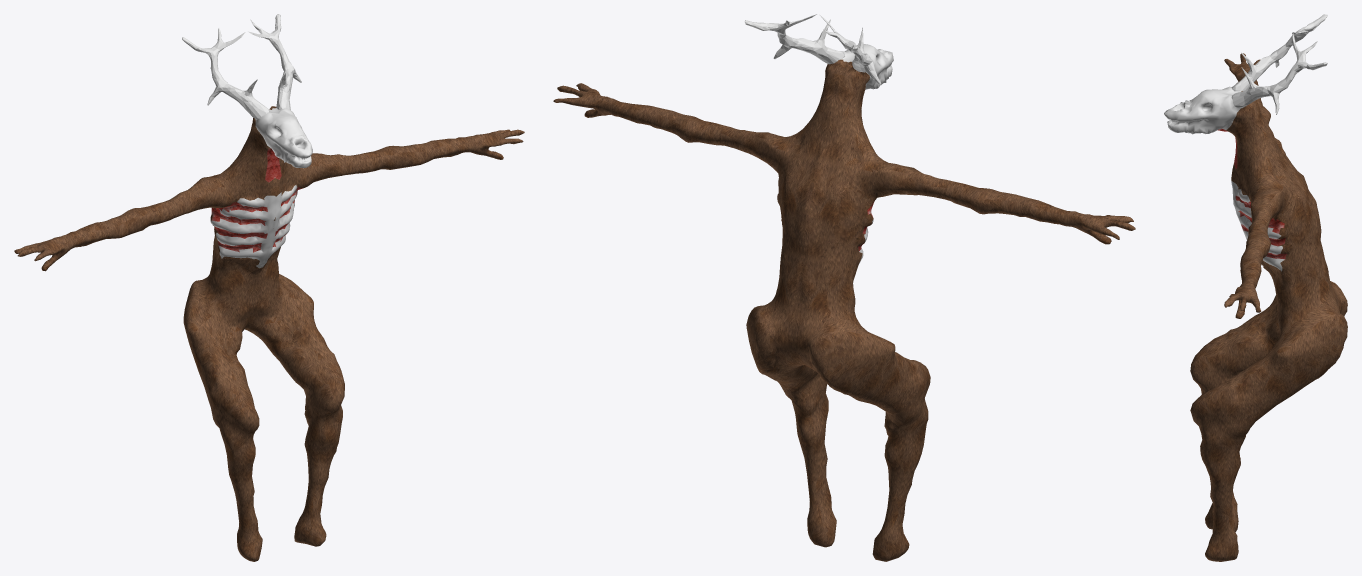
Rendered from WendigoFBX.fbx.
3 views of the same model, side by side, from view 1: azimuth 30°, elevation 25°; view 2: azimuth 150°, elevation 25°; view 3: azimuth 270°, elevation 25° (orthographic). The views are drawn at different scales.
Parts seen in each view (by area): view 1: Cube.003; view 2: Cube.003; view 3: Cube.003.
Part boxes in pixels (<box>): Cube.003: <box>14,14,524,561</box>; Cube.003: <box>553,14,1135,561</box>; Cube.003: <box>1164,14,1347,561</box>.
Bounding box in the file's own units: 5299 × 4935 × 1605.
